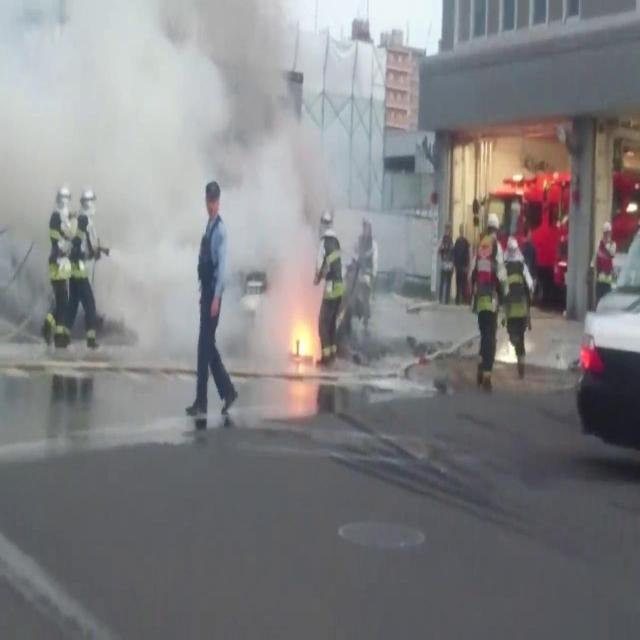Fire: (289, 321, 317, 356)
